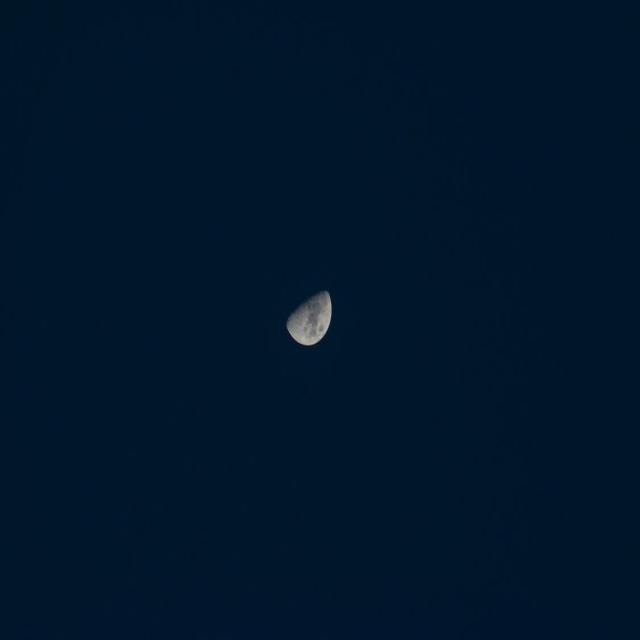moon: (277, 269, 343, 354)
